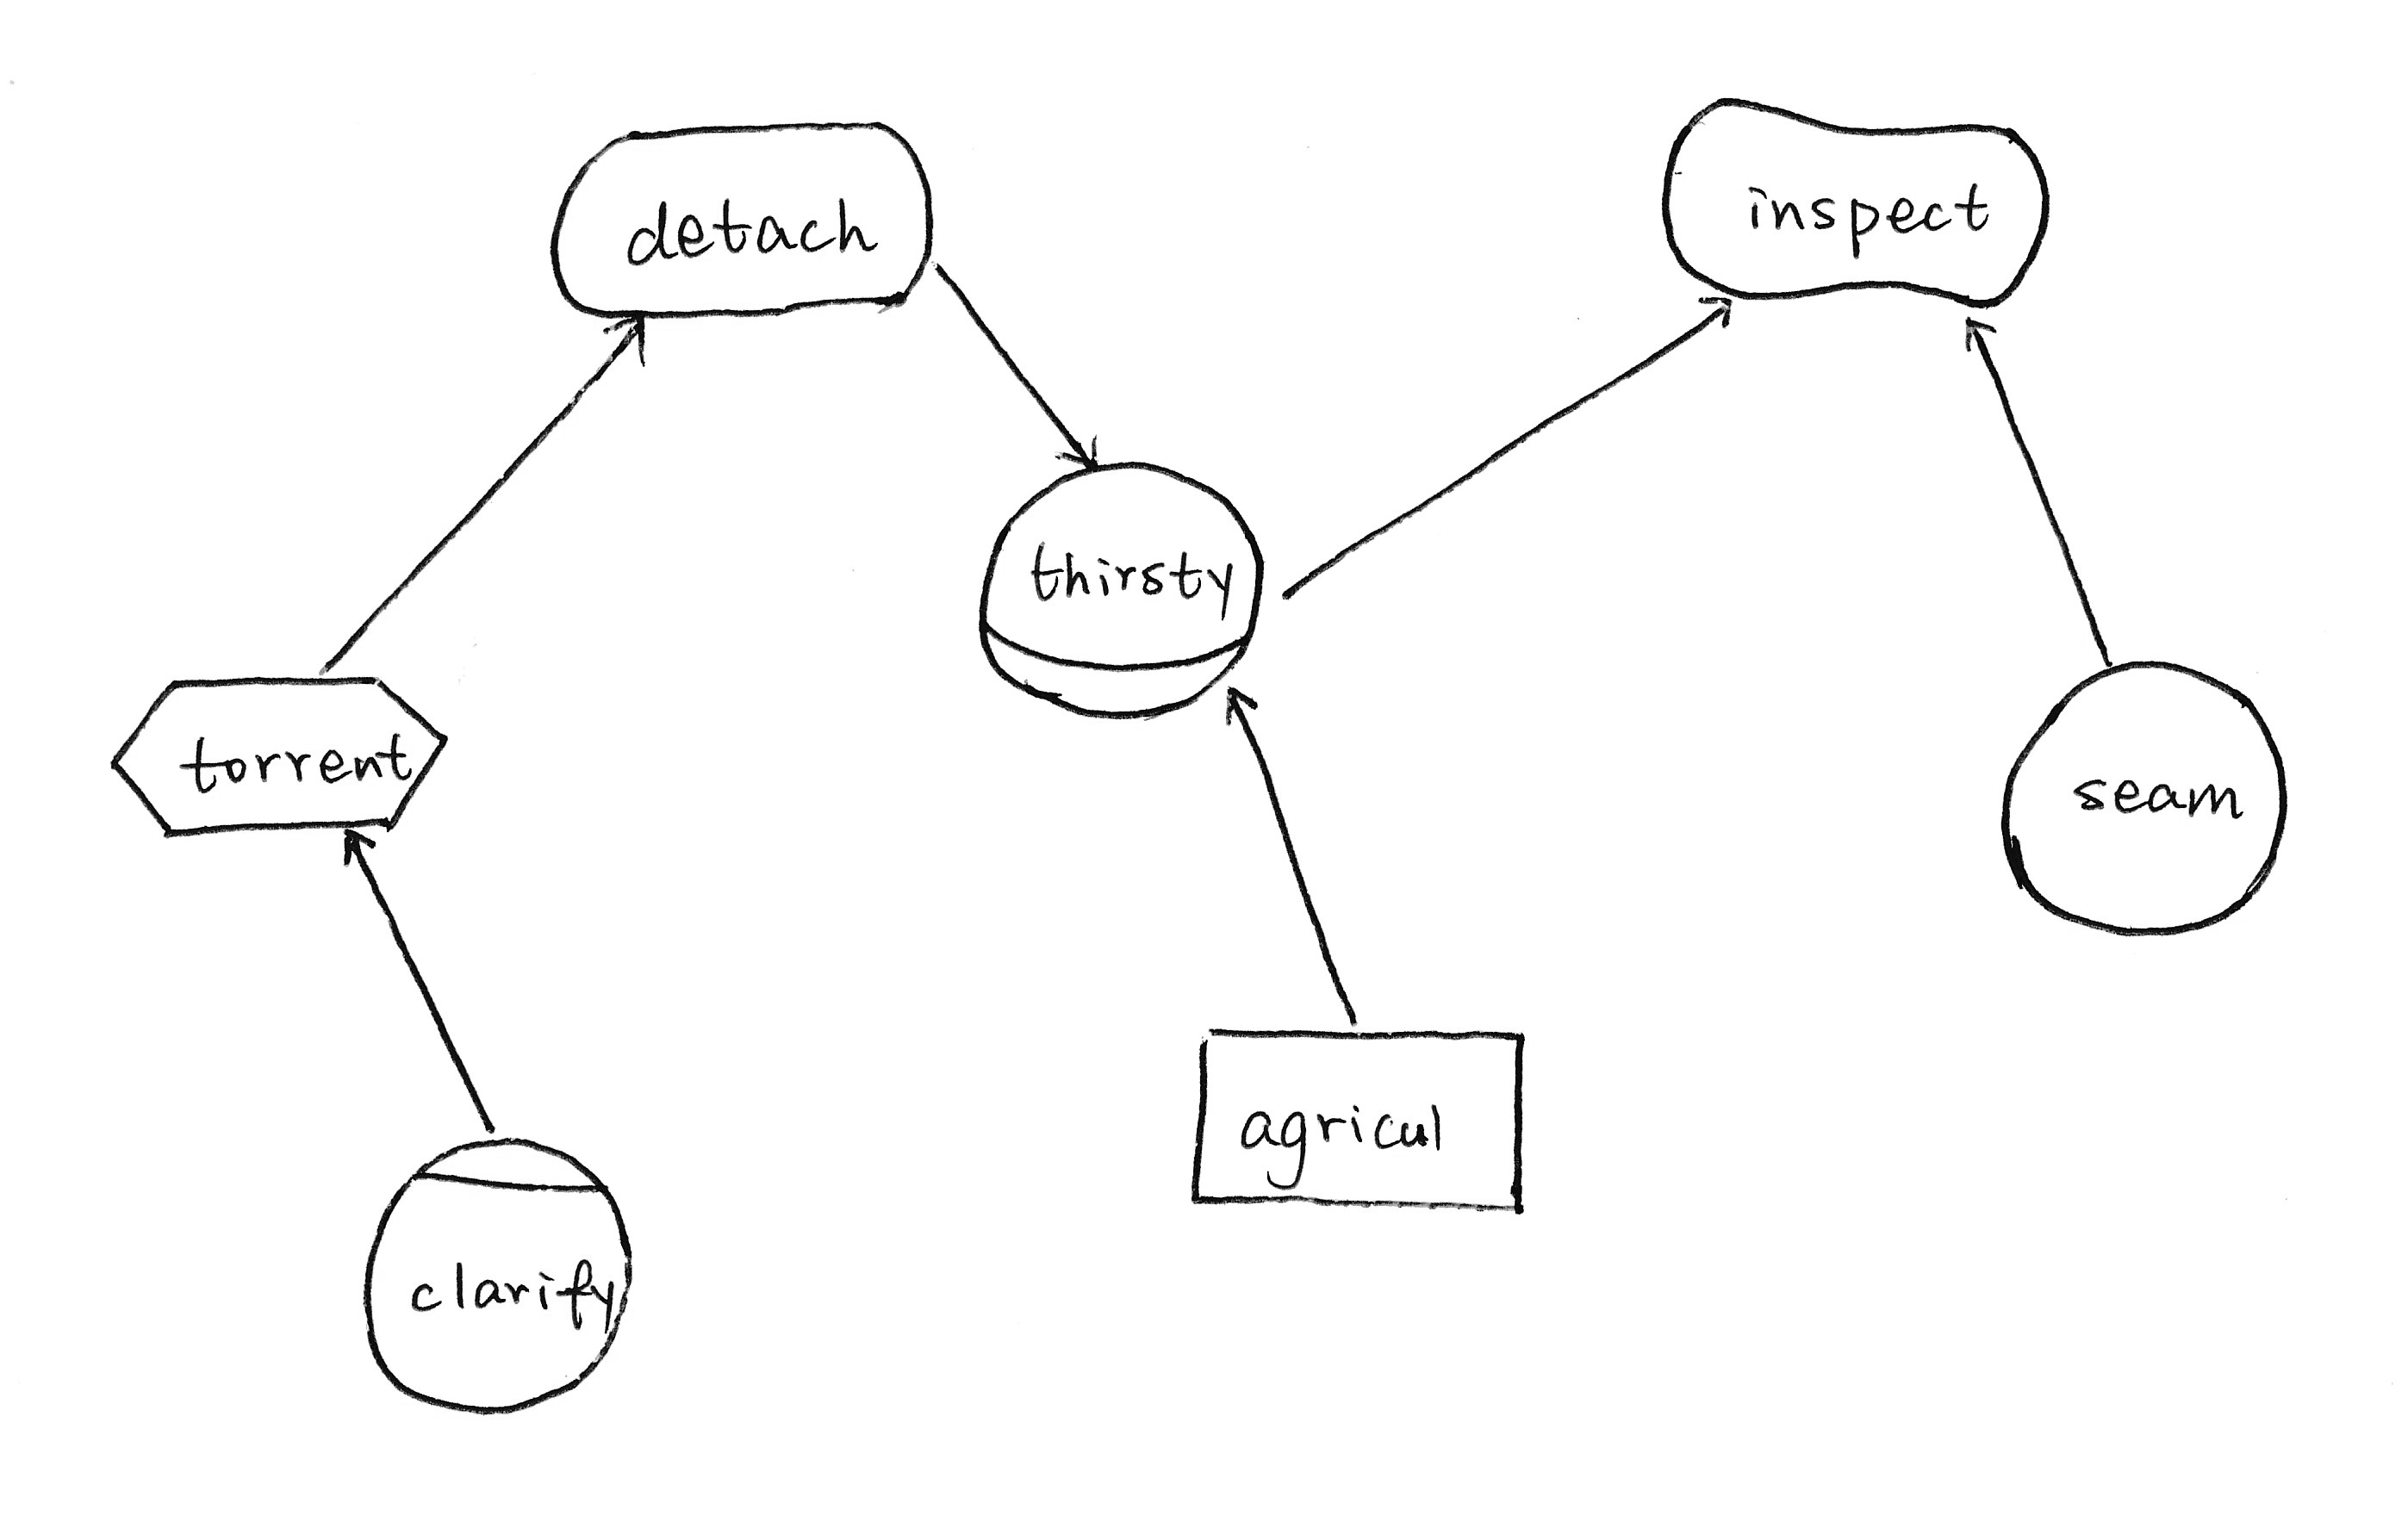actor: (1985, 639, 2307, 957)
agent: (346, 1121, 651, 1425)
arrow: (601, 295, 676, 374), (316, 809, 389, 880), (1676, 274, 1746, 346), (1042, 414, 1114, 482), (1945, 295, 2020, 358), (1203, 667, 1261, 734)
goal: (524, 98, 950, 342)
quality: (1645, 72, 2073, 327)
resource: (1170, 1008, 1554, 1228)
role: (957, 442, 1280, 739)
task: (91, 657, 458, 847)
